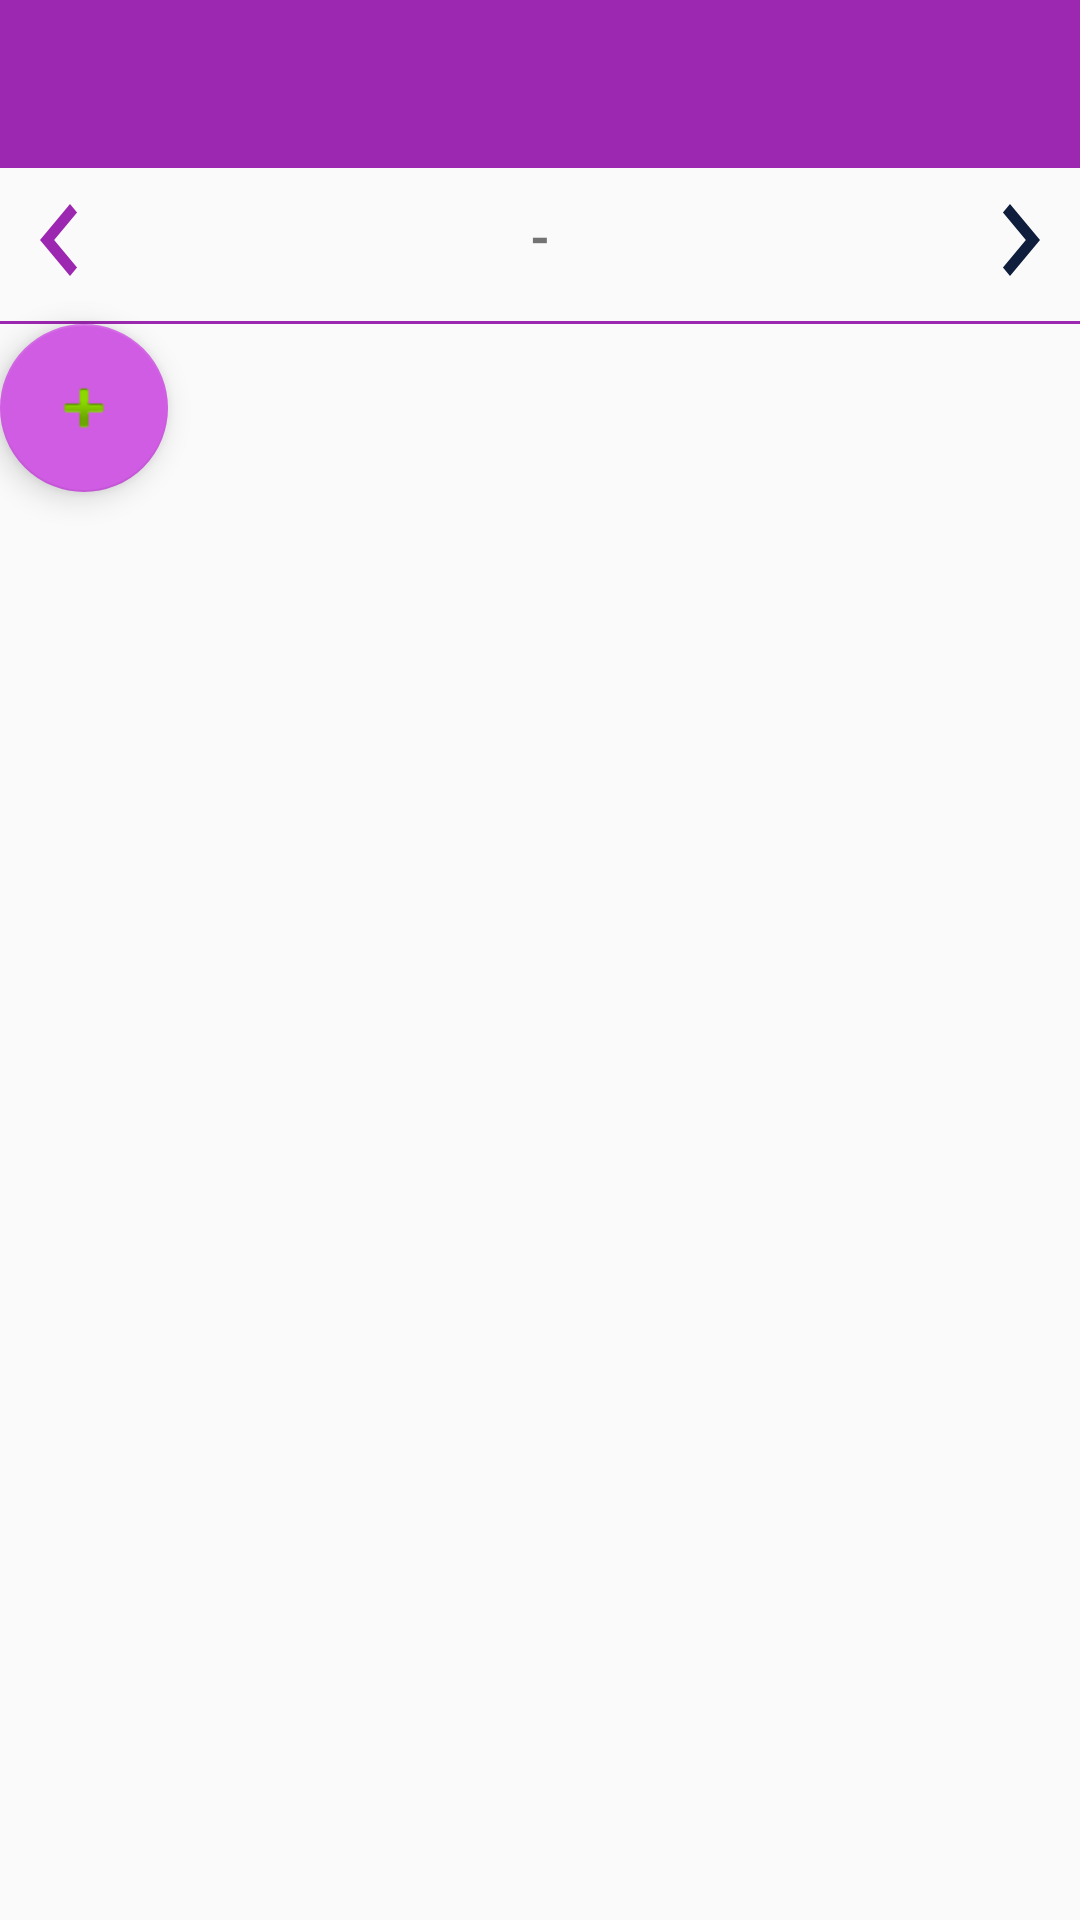

Where icons sit on this 1080×1920 app screen, as (x1, y1, x2, y2):
add: (0, 324, 168, 492)
